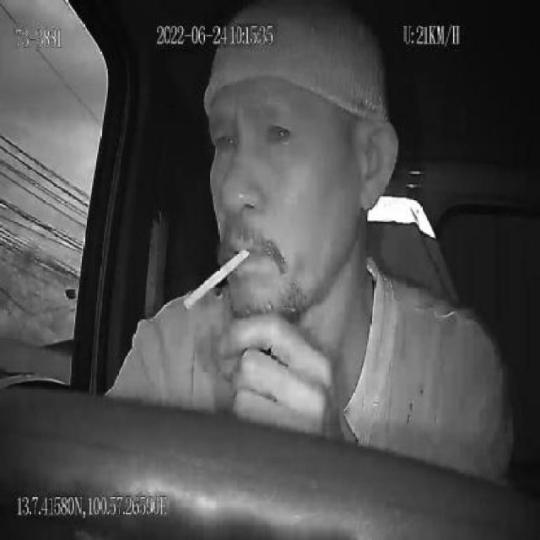smoking: (182, 245, 256, 312)
